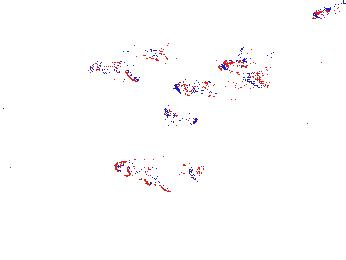red belly glassfish: (220, 54, 264, 71), (311, 5, 339, 19)
redtail glassfish: (115, 158, 210, 192), (172, 64, 271, 94), (90, 44, 174, 78), (163, 98, 198, 132)
